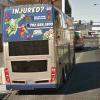Bus: (2, 3, 77, 95)
